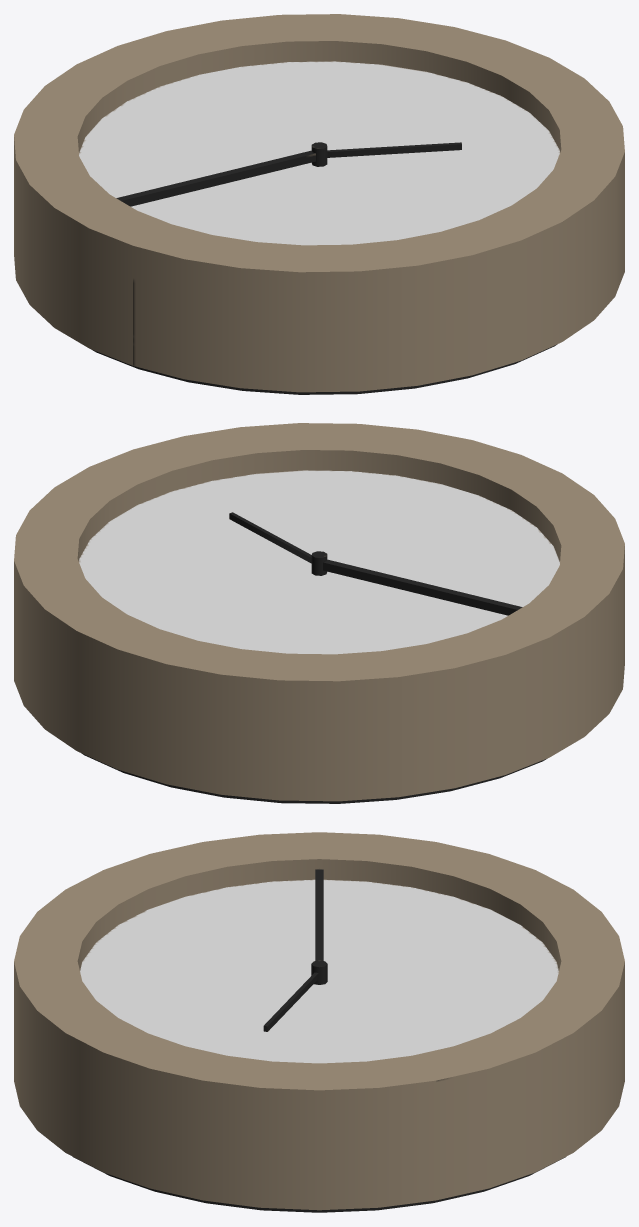
File: Clock.fbx
The picture shows the model from 3 angles, top to bottom: view 1: azimuth 30°, elevation 25°; view 2: azimuth 150°, elevation 25°; view 3: azimuth 270°, elevation 25°; orthographic projection.
Visible parts, largest first — view 1: jam, Jam0; view 2: jam, Jam0; view 3: jam, Jam0.
Boxes of the visible parts, x1,y1,x2,y2 form: jam: (14,14,624,392); Jam0: (91,344,557,394); jam: (14,423,624,801); Jam0: (81,753,547,803); jam: (14,832,624,1210); Jam0: (73,1157,565,1212).
Bounding box in the file's own units: 29.05 × 6.63 × 29.05.
Materials: 2 (2 with a texture image).
